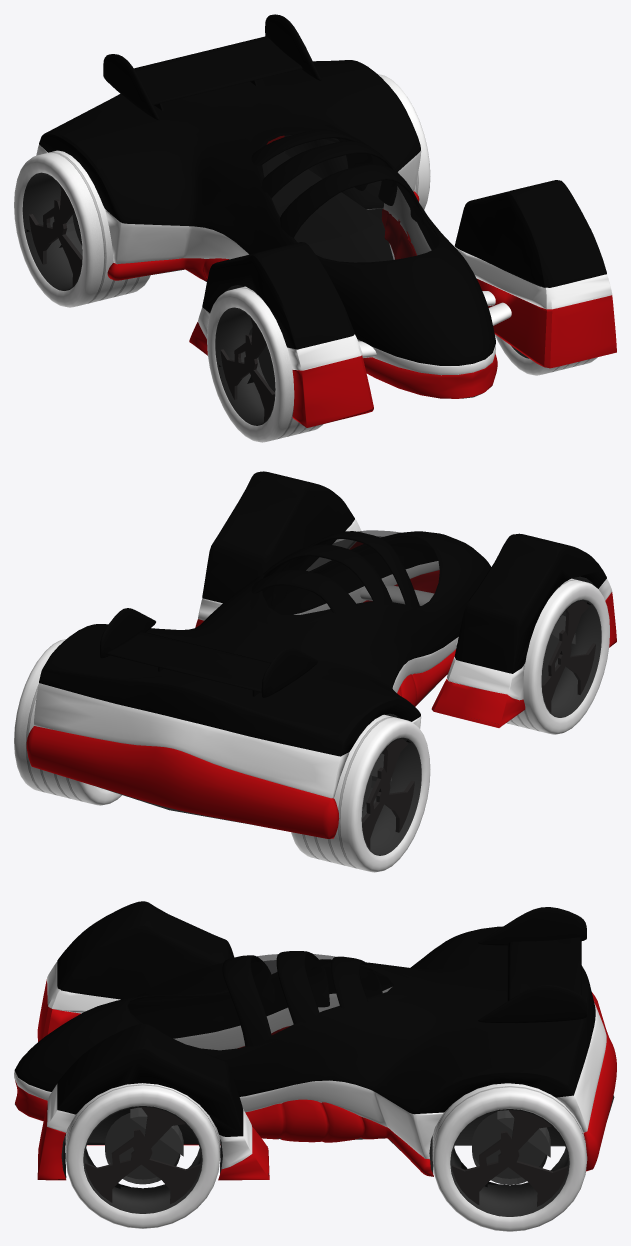
Rendered from J11_game.glb.
The picture shows the model from 3 angles, top to bottom: view 1: azimuth 30°, elevation 25°; view 2: azimuth 150°, elevation 25°; view 3: azimuth 270°, elevation 25°; orthographic projection.
Visible parts, largest first — view 1: body_paint_base_game, body_paint_trim_2_game, tire_speed_game (×4), body_paint_trim_1_game, body_glass_game, body_trim_game, rim_barrel_speed_game (×2), rim_face_speed_game (×2); view 2: body_paint_base_game, body_paint_trim_2_game, body_paint_trim_1_game, tire_speed_game (×3), body_glass_game, rim_barrel_speed_game (×2), rim_face_speed_game (×2); view 3: body_paint_base_game, tire_speed_game (×2), body_paint_trim_1_game, body_paint_trim_2_game, body_glass_game, rim_face_speed_game (×2), rim_barrel_speed_game (×2), brake_disc_speed_game (×2), body_trim_game, caliper_speed_game (×2).
Part boxes in pixels (box(x1,y1,x2,y2)): body_paint_base_game: box(39, 14, 606, 365); body_paint_trim_2_game: box(107, 136, 616, 427); tire_speed_game (×4): box(14, 74, 597, 442); body_paint_trim_1_game: box(36, 144, 612, 375); body_glass_game: box(251, 127, 442, 263); body_trim_game: box(52, 135, 546, 409); rim_barrel_speed_game (×2): box(22, 172, 275, 425); rim_face_speed_game (×2): box(29, 185, 274, 421); body_paint_base_game: box(39, 471, 606, 756); body_paint_trim_2_game: box(26, 542, 616, 838); body_paint_trim_1_game: box(34, 519, 612, 798); tire_speed_game (×3): box(14, 578, 609, 872); body_glass_game: box(250, 530, 442, 626); rim_barrel_speed_game (×2): box(361, 599, 601, 855); rim_face_speed_game (×2): box(362, 601, 595, 849); body_paint_base_game: box(14, 901, 595, 1136); tire_speed_game (×2): box(65, 1083, 587, 1231); body_paint_trim_1_game: box(14, 962, 606, 1168); body_paint_trim_2_game: box(15, 979, 616, 1180); body_glass_game: box(127, 954, 415, 1050); rim_face_speed_game (×2): box(85, 1107, 567, 1206); rim_barrel_speed_game (×2): box(83, 1106, 569, 1216); brake_disc_speed_game (×2): box(105, 1112, 547, 1184); body_trim_game: box(15, 1095, 614, 1177); caliper_speed_game (×2): box(130, 1107, 550, 1157).
Size of what is drawn, in the model's own units: 2.55 by 1.49 by 3.94.
10 materials, 1 textured.
